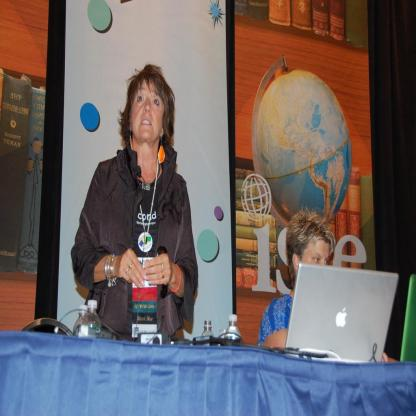board: (286, 263, 400, 367), (400, 274, 416, 363), (82, 299, 102, 334), (74, 305, 88, 337), (225, 315, 242, 341), (202, 318, 214, 336)
